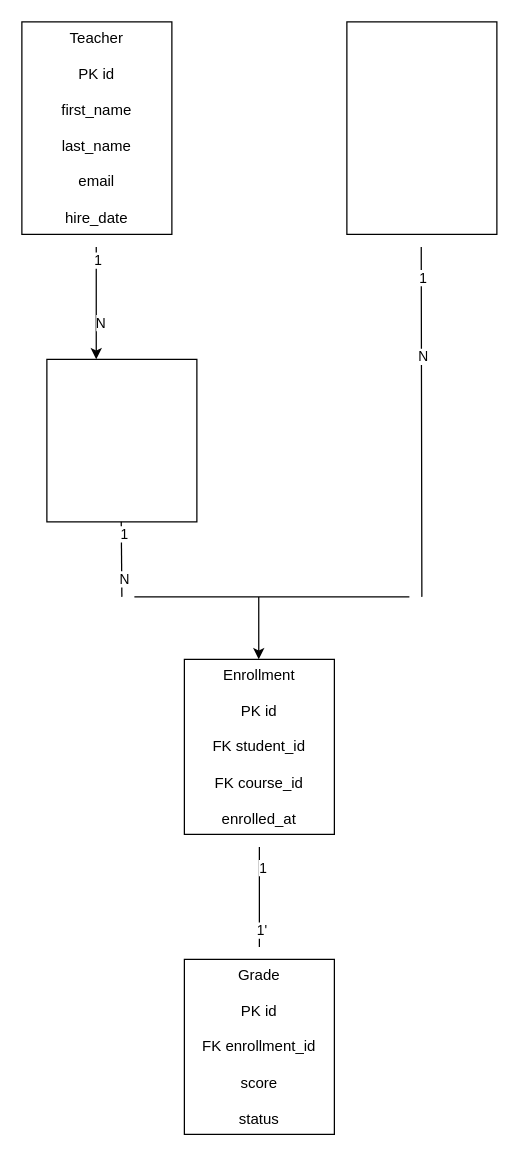
Image size: 519x1156. Some labels were removed from this diagram. The box of each missing label's shape, as (x1, y1, x2, y2) in pixels:
Course PK id name description FK teacher_id: (46, 358, 197, 522)
Student PK id first_name last_name email birth_date: (346, 21, 497, 234)
